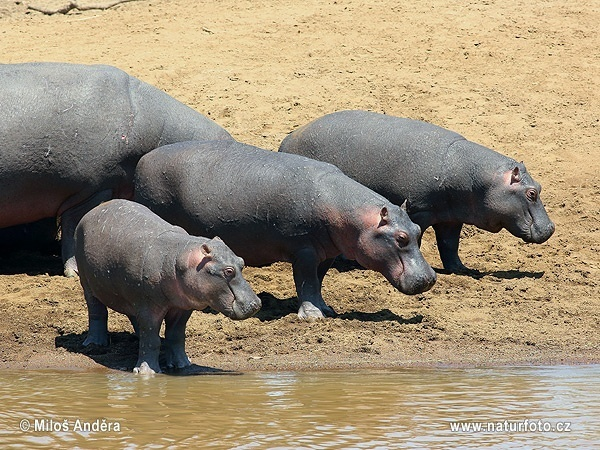hipopotamo: (134, 112, 437, 327), (272, 82, 564, 277), (1, 51, 243, 277), (65, 189, 266, 383)
